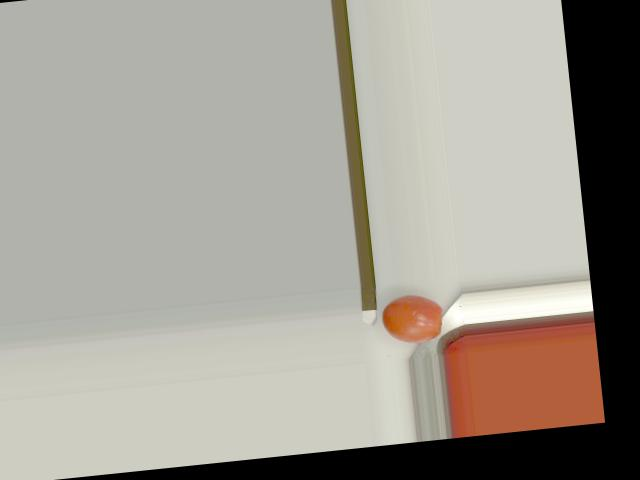tomato: (380, 291, 445, 346)
